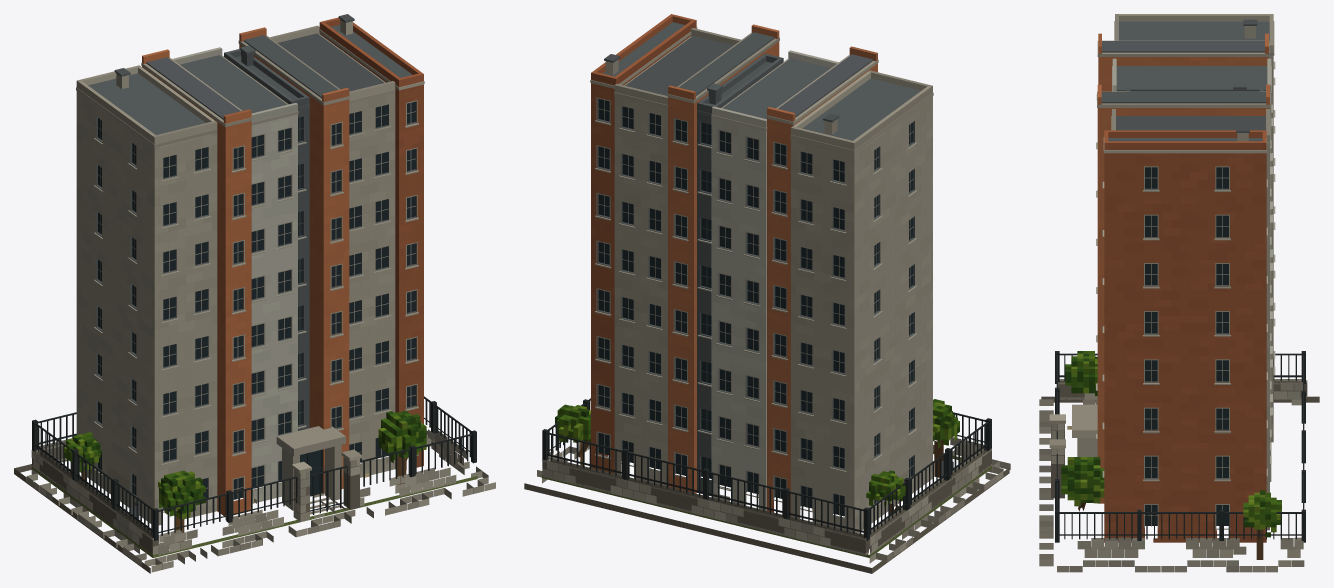
The model's file is SM_StreetFrontage_127.fbx.
3 renders of one model, left to right at view 1: azimuth 30°, elevation 25°; view 2: azimuth 150°, elevation 25°; view 3: azimuth 270°, elevation 25°, orthographic. The views are drawn at different scales.
Parts seen in each view (by area): view 1: SM_StreetFrontage_127; view 2: SM_StreetFrontage_127; view 3: SM_StreetFrontage_127.
Part boxes in pixels (<box>): SM_StreetFrontage_127: <box>14,14,495,573</box>; SM_StreetFrontage_127: <box>524,14,1010,573</box>; SM_StreetFrontage_127: <box>1039,14,1319,572</box>.
Bounding box in the file's own units: 32 × 21.95 × 36.32.
